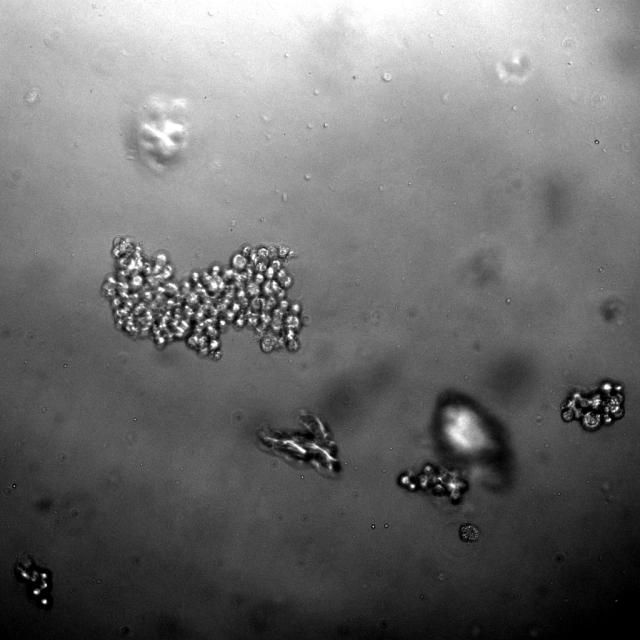organoid: (102, 237, 302, 359), (561, 379, 625, 430), (398, 463, 468, 504), (15, 557, 52, 608), (459, 523, 480, 542)
